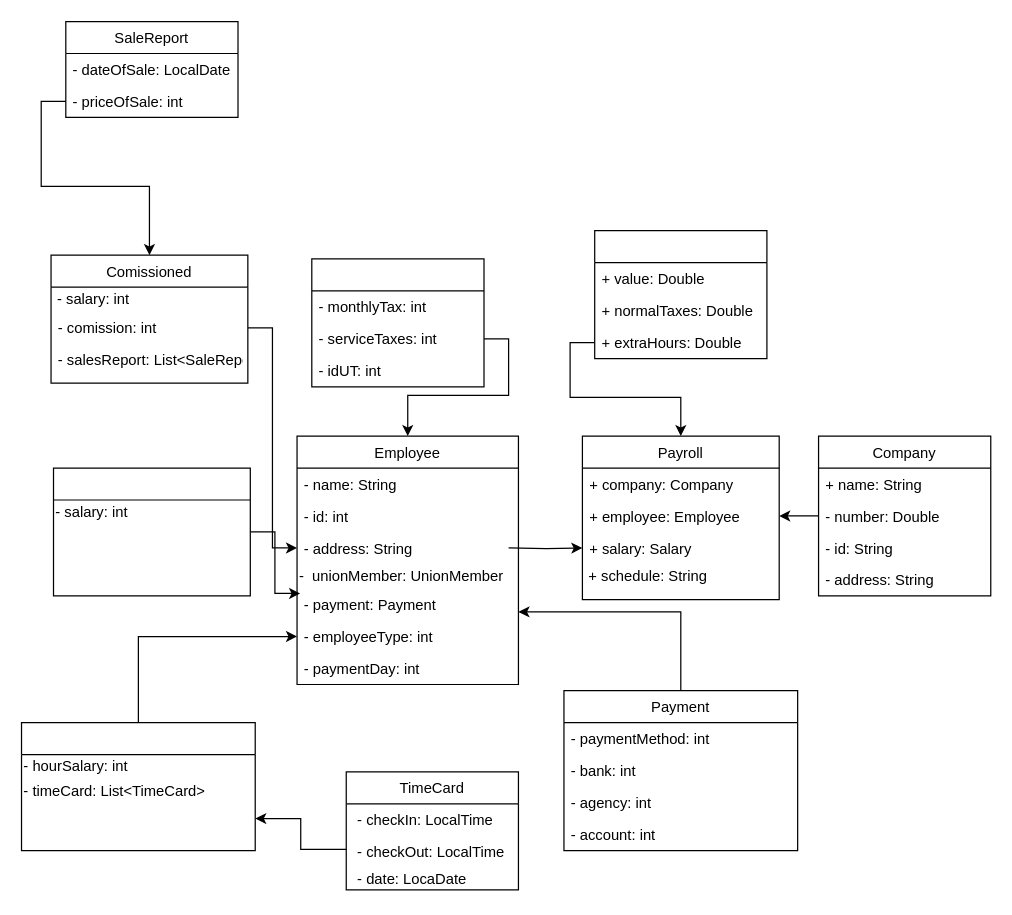
The diagram is 1012 pixels wide and 915 high, and some of its shapes have lost their labels. Each missing label, with the box of its shape:
Hourly: (20, 721, 255, 851)
Salaried: (52, 467, 250, 596)
Salary: (593, 229, 767, 359)
UnionMember: (311, 258, 484, 387)
